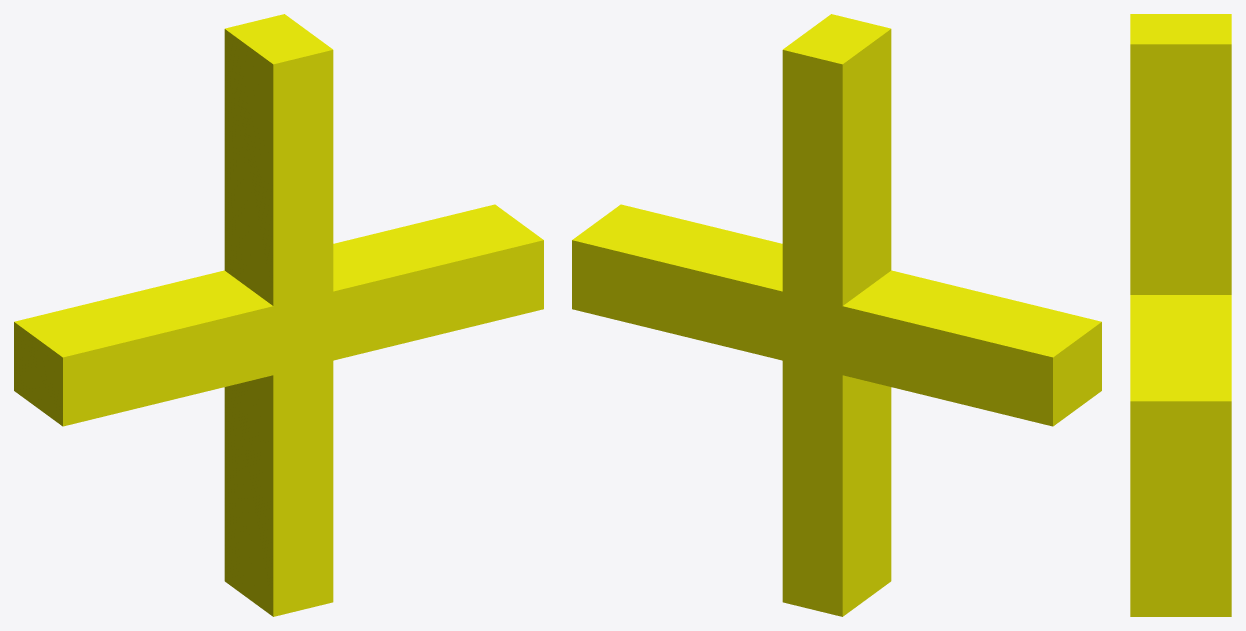
The model's file is addsym.fbx.
3 renders of one model, left to right at view 1: azimuth 30°, elevation 25°; view 2: azimuth 150°, elevation 25°; view 3: azimuth 270°, elevation 25°, orthographic. The views are drawn at different scales.
Visible parts, largest first — view 1: Add; view 2: Add; view 3: Add.
Boxes of the visible parts, <box> form: Add: <box>14,14,543,616</box>; Add: <box>572,14,1101,616</box>; Add: <box>1130,14,1231,616</box>.
Size of the model in its own units: 0.502 by 0.5509 by 0.0883.
